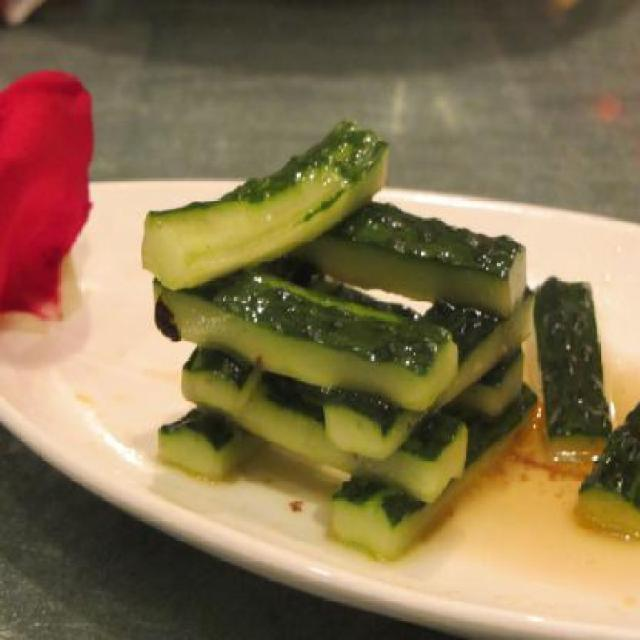Zucchini: (99, 107, 606, 566)
